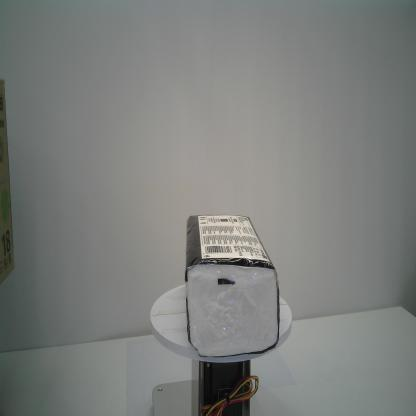Tissue: (184, 214, 280, 358)
